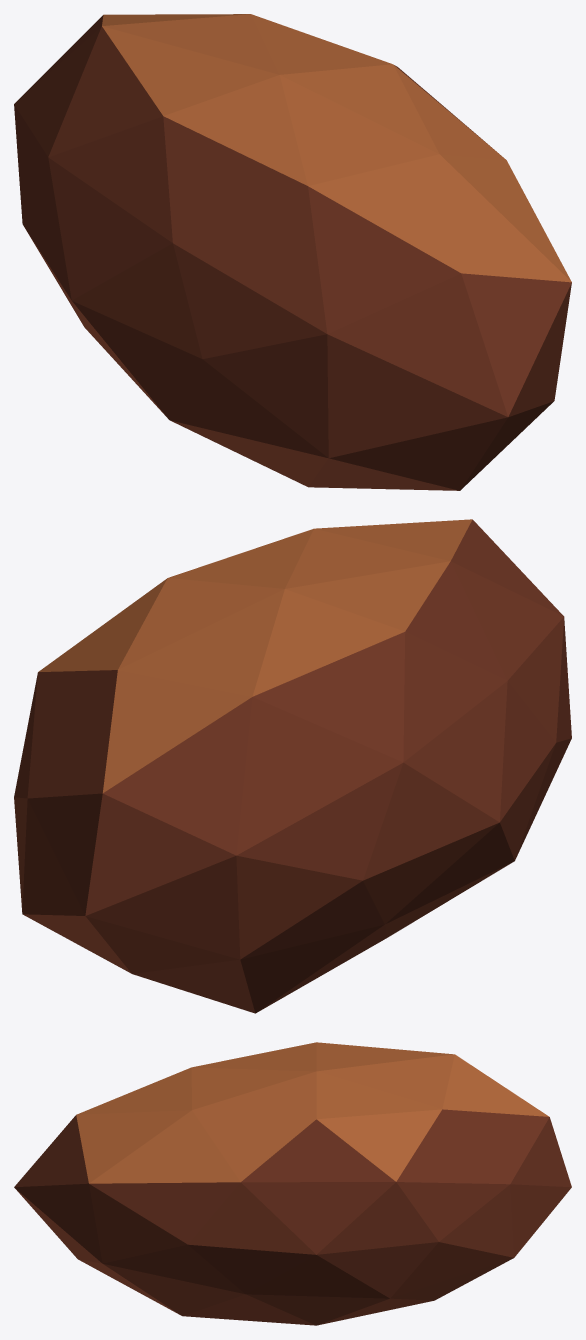
The model's file is rock_lump.gltf.
3 renders of one model, top to bottom at view 1: azimuth 30°, elevation 25°; view 2: azimuth 150°, elevation 25°; view 3: azimuth 270°, elevation 25°, orthographic. The views are drawn at different scales.
Visible parts, largest first — view 1: rock; view 2: rock; view 3: rock.
Part boxes in pixels (x1=…): rock: x1=14, y1=14, x2=571, y2=490; rock: x1=14, y1=519, x2=571, y2=1013; rock: x1=14, y1=1042, x2=571, y2=1325.
Bounding box in the file's own units: 4.31 × 3.47 × 7.55.
